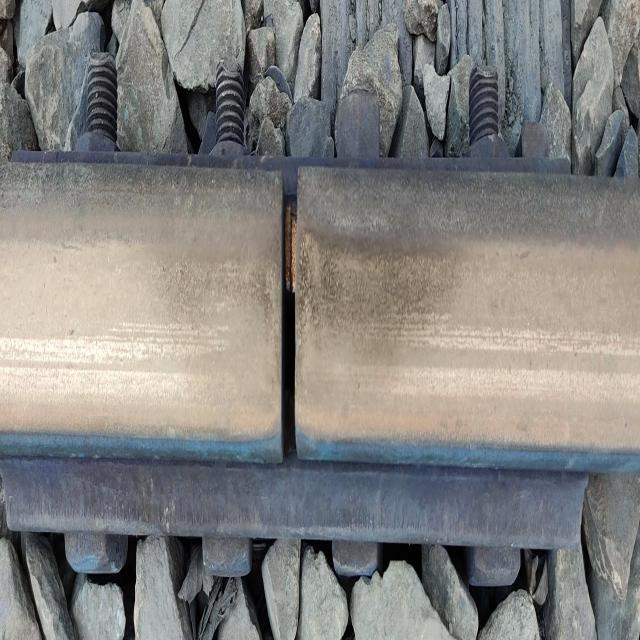Good Joint: (21, 27, 596, 640)
